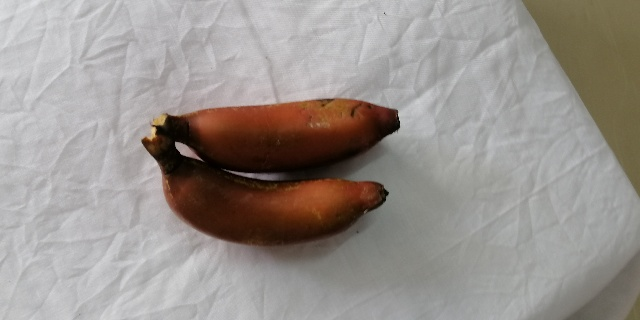banana_red: (148, 135, 389, 246), (151, 97, 402, 166)
